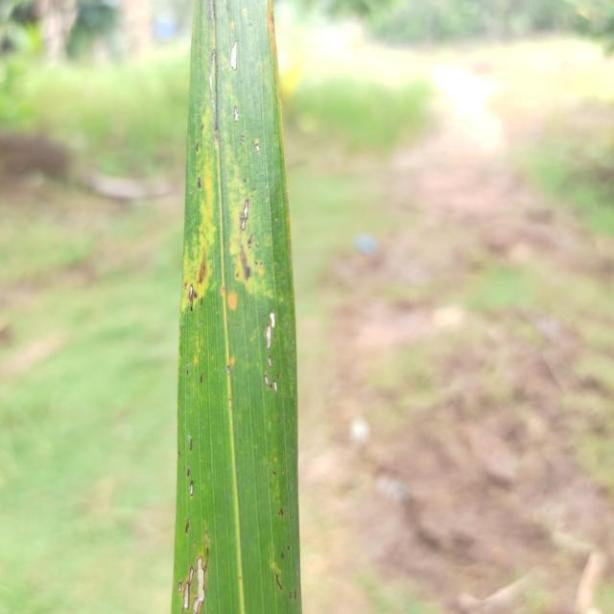Kalium: (174, 0, 301, 614)
